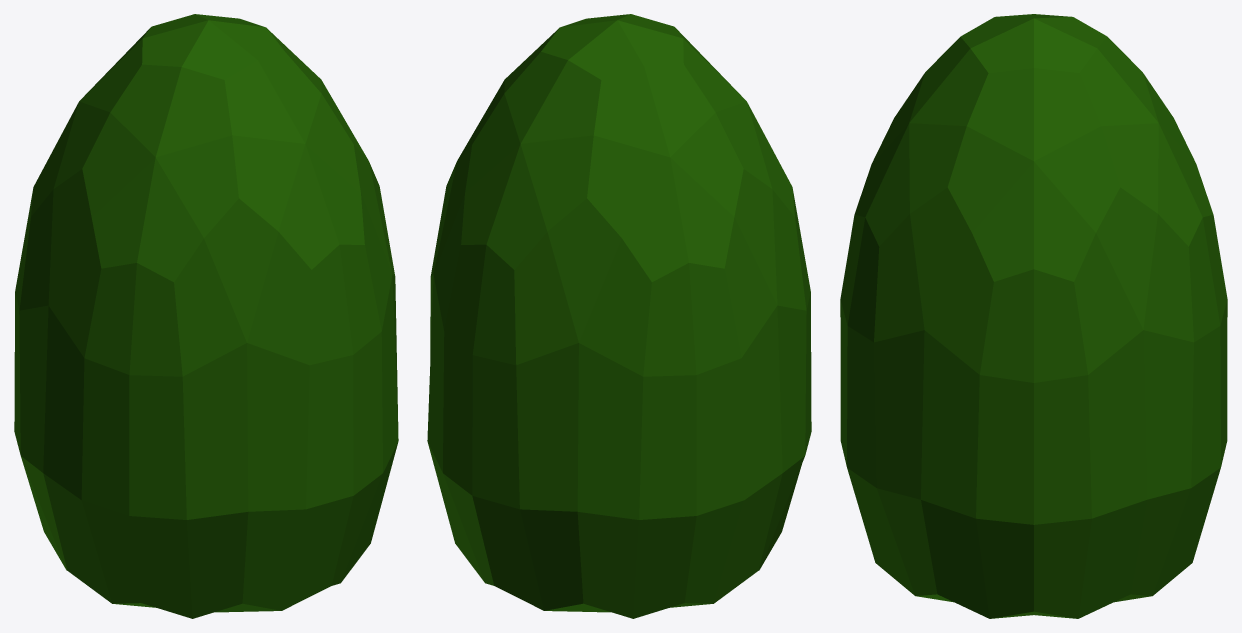
File: Cactus.fbx
3 views of the same model, side by side, from view 1: azimuth 30°, elevation 25°; view 2: azimuth 150°, elevation 25°; view 3: azimuth 270°, elevation 25° (orthographic).
Visible parts, largest first — view 1: Icosphere; view 2: Icosphere; view 3: Icosphere.
Part boxes in pixels (x1,y1,x2,y2): Icosphere: [14, 14, 398, 618]; Icosphere: [427, 14, 811, 618]; Icosphere: [840, 14, 1227, 618].
Bounding box in the file's own units: 158 × 267 × 157.
